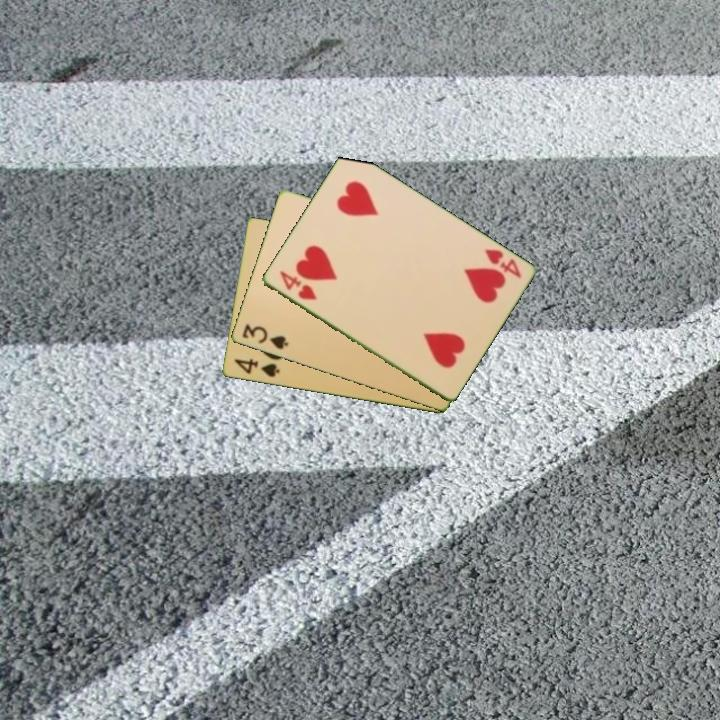3s: (238, 320, 291, 353)
4h: (276, 267, 319, 303), (481, 245, 524, 281)
4s: (230, 355, 282, 380)
